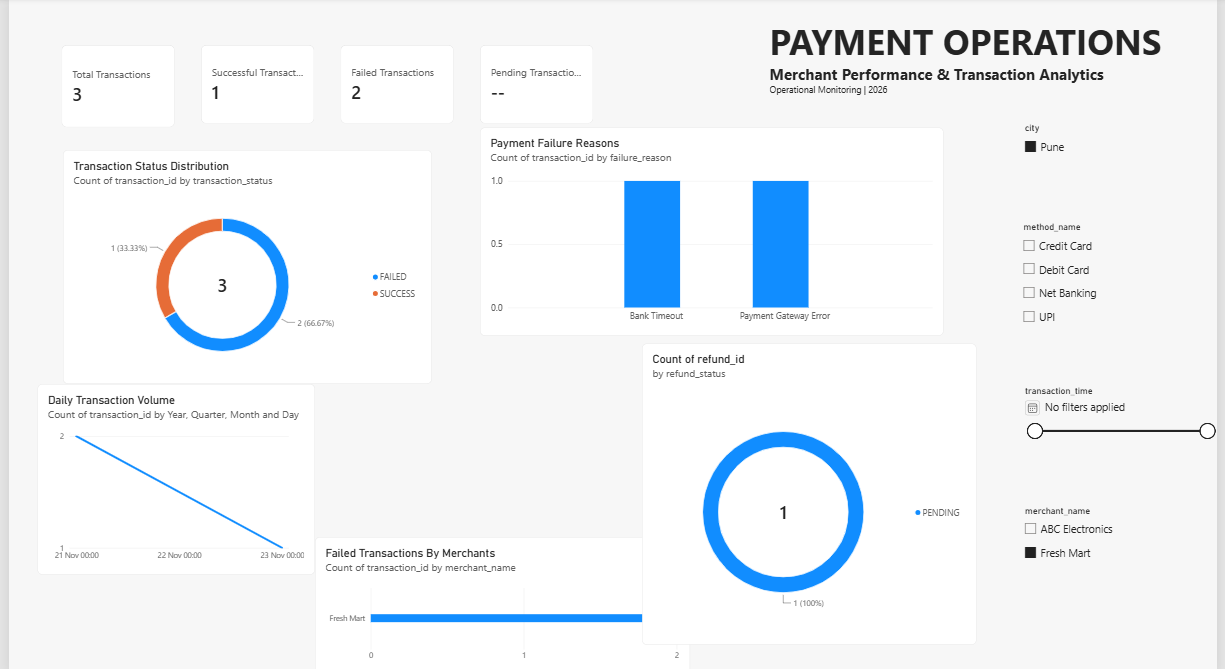

What the dashboard file says about the page in this screenshot:
{"tool":"powerbi","page":{"name":"Page 1","canvas":[1920,1080],"ordinal":0},"visuals":[{"type":"cardVisual","fields":{"Data":["public transactions.Total Transactions"]},"box":[83.8,77.5,180,131],"z":0},{"type":"cardVisual","fields":{"Data":["public transactions.Pending Transactions"]},"box":[750,77.5,180,125],"z":1000},{"type":"cardVisual","fields":{"Data":["public transactions.Successful Transactions"]},"box":[305,77.5,180,125],"z":2000},{"type":"cardVisual","fields":{"Data":["public transactions.Failed Transactions"]},"box":[526.2,77.5,180,125],"z":3000},{"type":"donutChart","title":"Transaction Status Distribution","fields":{"Category":["public transactions.transaction_status"],"Y":["CountNonNull(public transactions.transaction_id)"]},"box":[85.9,243.4,586.9,372.2],"z":4000},{"type":"lineChart","title":"Daily Transaction Volume","fields":{"Category":["public transactions.transaction_time.Variation.Date Hierarchy.Year","public transactions.transaction_time.Variation.Date Hierarchy.Quarter","public transactions.transaction_time.Variation.Date Hierarchy.Month","public transactions.transaction_time.Variation.Date Hierarchy.Day"],"Y":["CountNonNull(public transactions.transaction_id)"]},"box":[45.3,615.6,441.4,303],"z":5000},{"type":"clusteredBarChart","title":"Failed Transactions By Merchants","fields":{"Category":["public merchants.merchant_name"],"Y":["CountNonNull(public transactions.transaction_id)"]},"box":[486.7,858.9,596.5,219.5],"z":6000},{"type":"clusteredColumnChart","title":"Payment Failure Reasons","fields":{"Category":["public transactions.failure_reason"],"Y":["CountNonNull(public transactions.transaction_id)"]},"box":[749.2,207.6,737.2,331.6],"z":7000},{"type":"donutChart","fields":{"Category":["public refunds.refund_status"],"Y":["CountNonNull(public refunds.refund_id)"]},"box":[1083.2,539.2,532.1,479.6],"z":8000},{"type":"slicer","fields":{"Values":["public merchants.merchant_name"]},"box":[1608.1,808.8,314,221],"z":9000},{"type":"slicer","fields":{"Values":["public merchants.city"]},"box":[1608.1,200.4,314.9,157.5],"z":10000},{"type":"slicer","fields":{"Values":["public payment_methods.method_name"]},"box":[1605.7,357.9,314,299],"z":11000},{"type":"slicer","fields":{"Values":["public transactions.transaction_time"]},"box":[1608.1,618,314,221],"z":12000},{"type":"textbox","box":[1210,30,710,212.5],"z":13000}]}

Visuals, with their boxes in screenshot pixels (x1, y1, x2, y2), scaled from the page's 1920x1080 canvas onto the 1225x669 screenshot:
cardVisual - public transactions.Total Transactions: (53, 48, 168, 129)
cardVisual - public transactions.Pending Transactions: (479, 48, 593, 125)
cardVisual - public transactions.Successful Transactions: (195, 48, 309, 125)
cardVisual - public transactions.Failed Transactions: (336, 48, 451, 125)
"Transaction Status Distribution" donutChart: (55, 151, 429, 381)
"Daily Transaction Volume" lineChart: (29, 381, 311, 569)
"Failed Transactions By Merchants" clusteredBarChart: (311, 532, 691, 668)
"Payment Failure Reasons" clusteredColumnChart: (478, 129, 948, 334)
donutChart - public refunds.refund_status x CountNonNull(public refunds.refund_id): (691, 334, 1031, 631)
slicer - public merchants.merchant_name: (1026, 501, 1224, 638)
slicer - public merchants.city: (1026, 124, 1224, 222)
slicer - public payment_methods.method_name: (1024, 222, 1224, 407)
slicer - public transactions.transaction_time: (1026, 383, 1224, 520)
textbox: (772, 19, 1224, 150)
